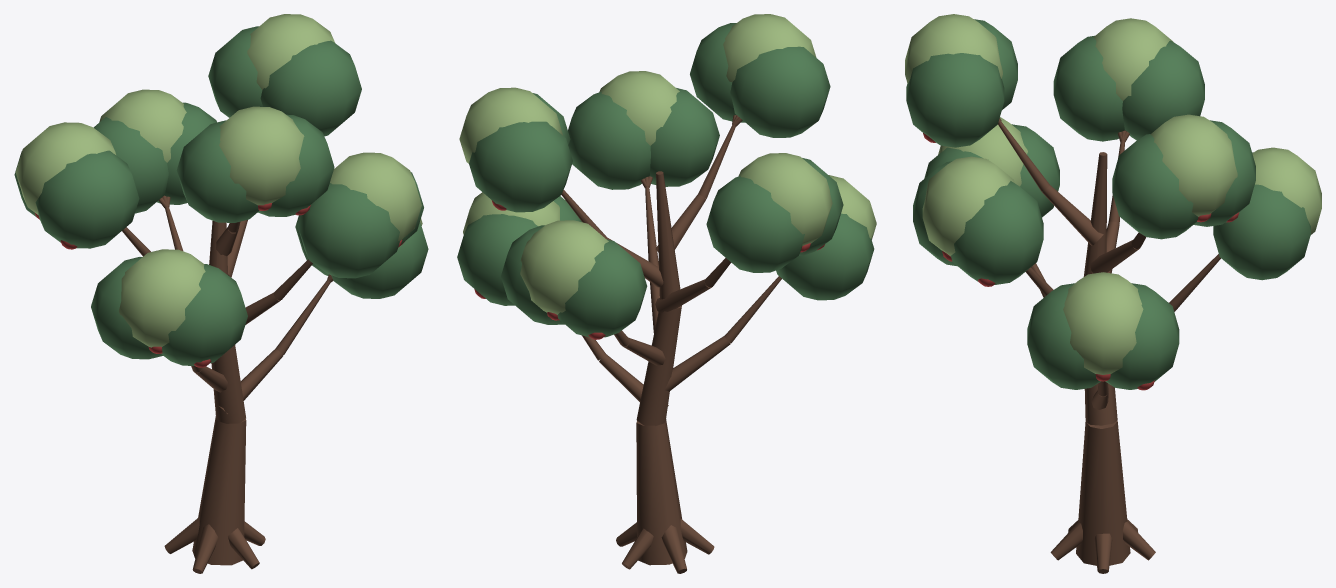
File: almanac-gardens-fruiting-orchard-tree-050e76cb__22042.glb
3 views of the same model, side by side, from view 1: azimuth 30°, elevation 25°; view 2: azimuth 150°, elevation 25°; view 3: azimuth 270°, elevation 25° (orthographic). The views are drawn at different scales.
Parts seen in each view (by area): view 1: fruiting-orchard-tree-leaf, fruiting-orchard-tree-sage, fruiting-orchard-tree-bark; view 2: fruiting-orchard-tree-leaf, fruiting-orchard-tree-sage, fruiting-orchard-tree-bark; view 3: fruiting-orchard-tree-leaf, fruiting-orchard-tree-sage, fruiting-orchard-tree-bark, fruiting-orchard-tree-red.
Boxes of the visible parts, x1,y1,x2,y2 form: fruiting-orchard-tree-leaf: [14, 26, 428, 365]; fruiting-orchard-tree-sage: [15, 14, 422, 347]; fruiting-orchard-tree-bark: [122, 195, 333, 573]; fruiting-orchard-tree-leaf: [457, 23, 874, 337]; fruiting-orchard-tree-sage: [459, 14, 876, 314]; fruiting-orchard-tree-bark: [561, 115, 781, 573]; fruiting-orchard-tree-leaf: [906, 19, 1310, 389]; fruiting-orchard-tree-sage: [905, 14, 1321, 374]; fruiting-orchard-tree-bark: [998, 118, 1220, 573]; fruiting-orchard-tree-red: [923, 133, 1239, 390].
Size of the model in its own units: 2.81 by 3.57 by 2.59.
